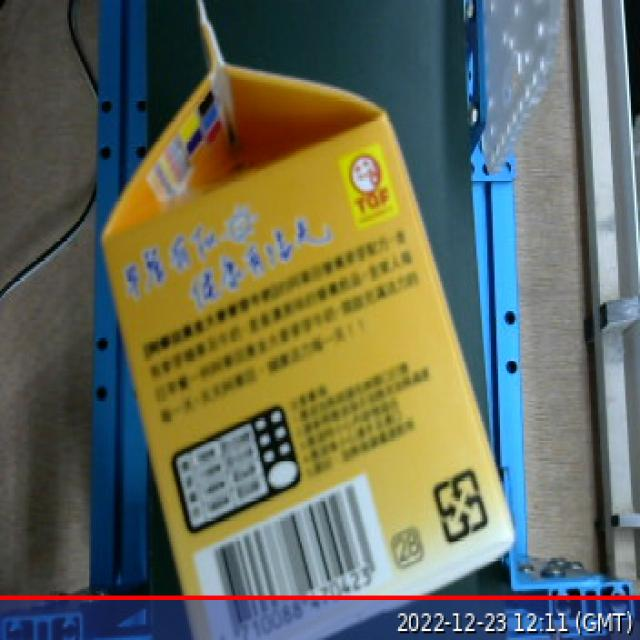non_white_jug: (104, 0, 523, 639)
